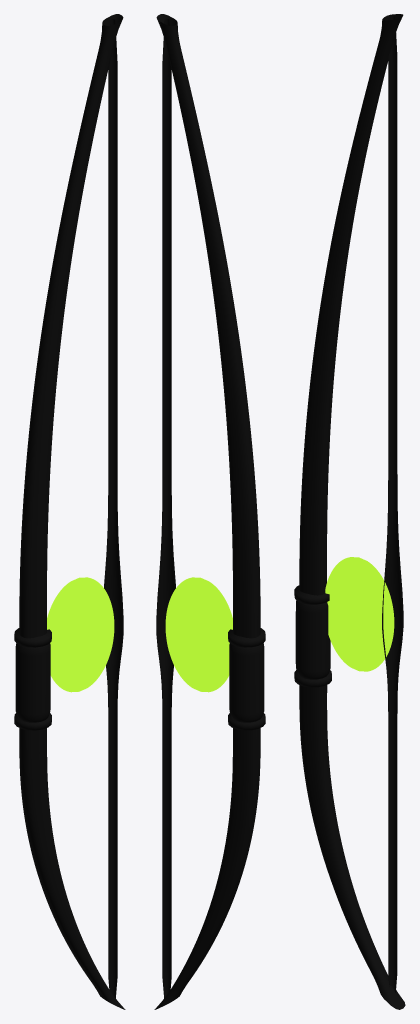
3 views of the same model, side by side, from view 1: azimuth 30°, elevation 25°; view 2: azimuth 150°, elevation 25°; view 3: azimuth 330°, elevation 25° (orthographic).
Parts seen in each view (by area): view 1: bow, string, sheet, wrap, band_0.101, band_-0.081; view 2: bow, string, sheet, wrap, band_0.101, band_-0.081; view 3: bow, string, sheet, wrap, band_0.101, band_-0.081.
Part boxes in pixels (x1,y1,x2,y2): bow: (19,14,125,1009); string: (104,19,123,997); sheet: (47,577,114,692); wrap: (15,643,50,722); band_0.101: (14,628,51,647); band_-0.081: (14,713,51,730); bow: (154,14,260,1009); string: (156,19,175,997); sheet: (165,577,232,692); wrap: (229,643,264,722); band_0.101: (228,628,265,647); band_-0.081: (228,713,265,730); bow: (299,14,405,1009); string: (382,16,403,992); sheet: (325,557,394,671); wrap: (295,600,330,679); band_0.101: (294,585,329,604); band_-0.081: (294,670,331,687).
Bounding box in the file's own units: 0.2447 × 2.18 × 0.0753.
